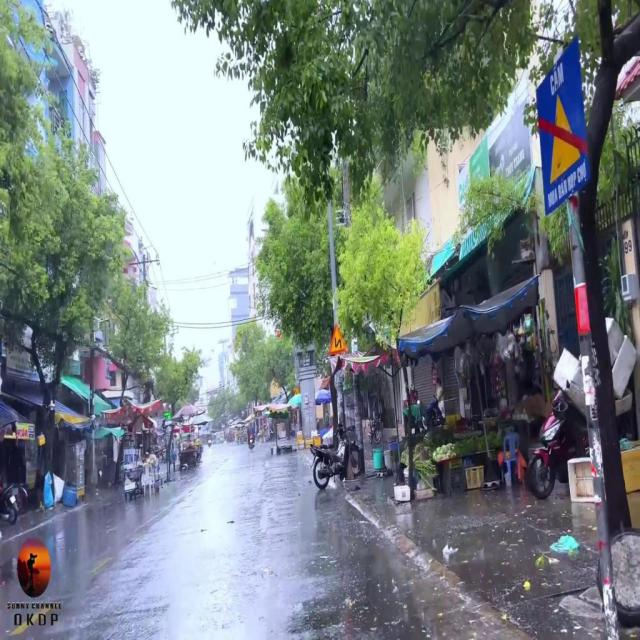cho_ngoat_nguy_hiem_lien_tiep: (330, 323, 347, 354)
